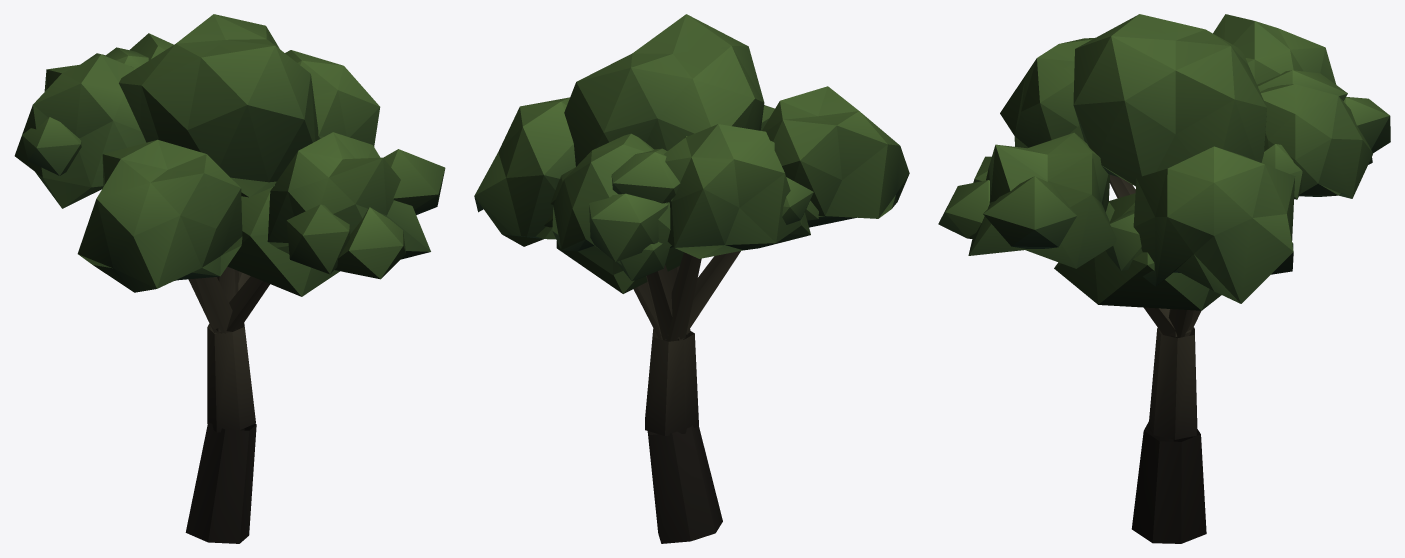
Rendered from baum_sumpf2.glb.
3 views of the same model, side by side, from view 1: azimuth 30°, elevation 25°; view 2: azimuth 150°, elevation 25°; view 3: azimuth 270°, elevation 25° (orthographic). The views are drawn at different scales.
Visible parts, largest first — view 1: baum_sumpf2; view 2: baum_sumpf2; view 3: baum_sumpf2.
Part boxes in pixels (<box>): baum_sumpf2: <box>14,14,445,543</box>; baum_sumpf2: <box>474,14,909,543</box>; baum_sumpf2: <box>938,14,1390,543</box>.
Size of the model in its own units: 3.96 by 5.52 by 4.43.
